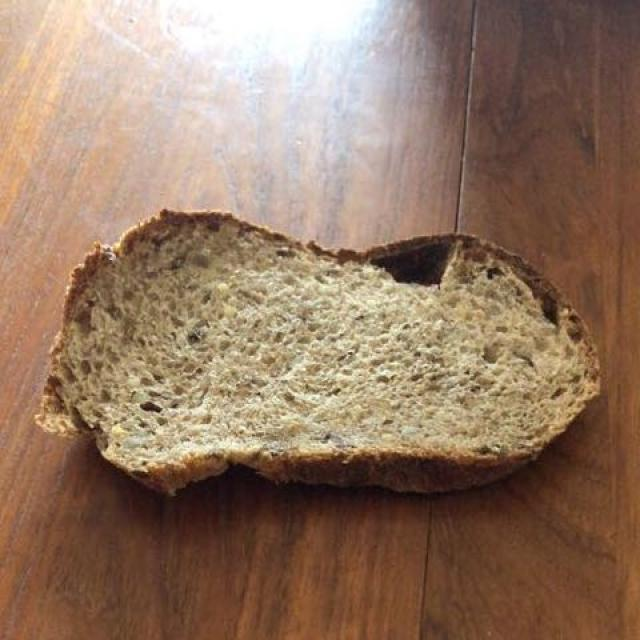Bread: (26, 192, 608, 532)
